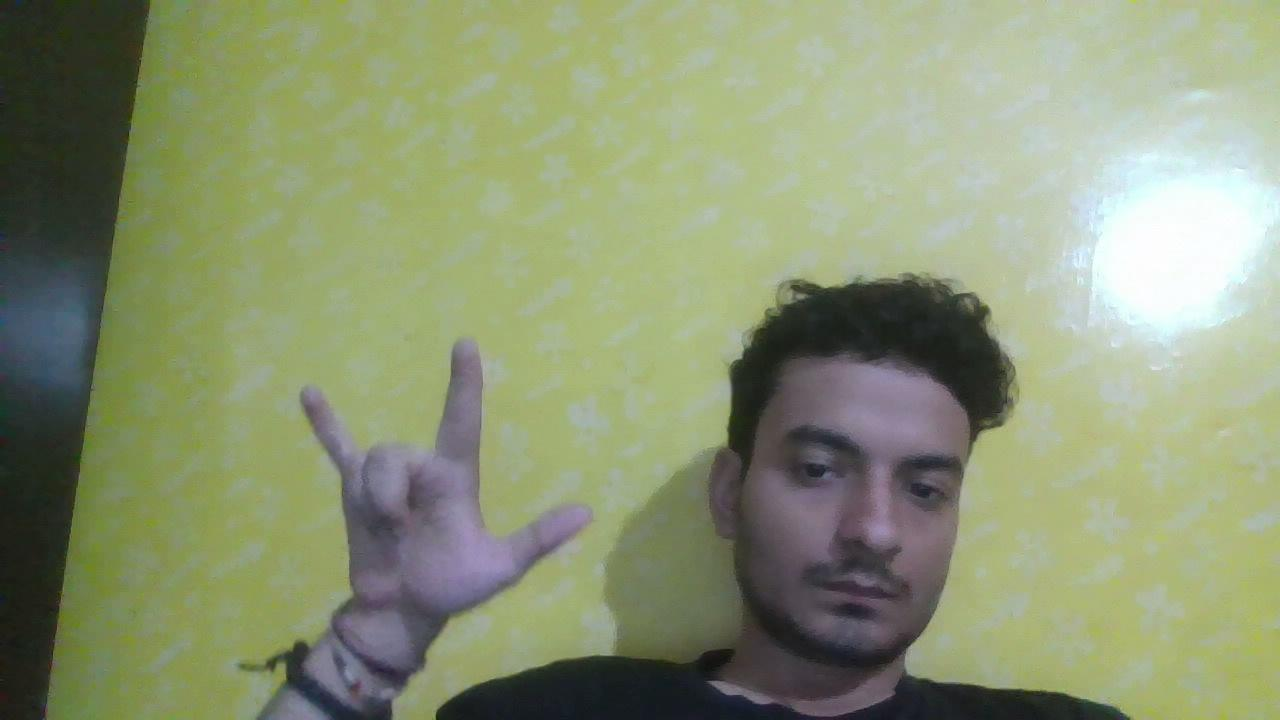Loveyou: (287, 346, 624, 643)
